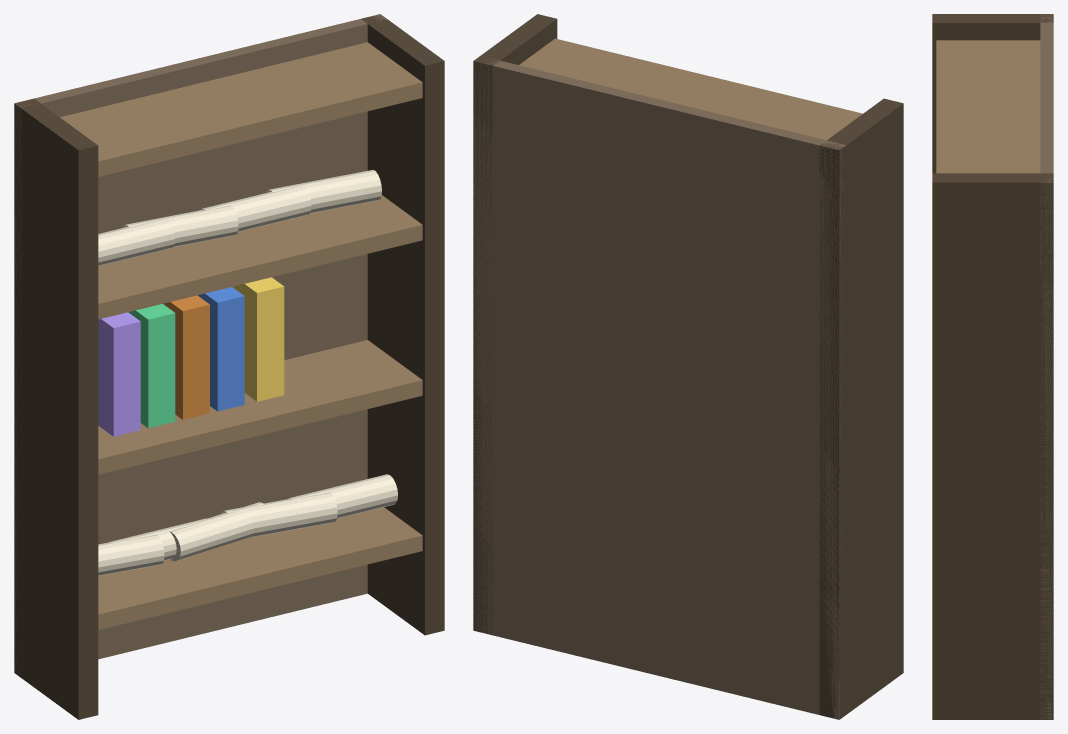
File: archive_shelf.fbx
3 renders of one model, left to right at view 1: azimuth 30°, elevation 25°; view 2: azimuth 150°, elevation 25°; view 3: azimuth 270°, elevation 25°, orthographic. The views are drawn at different scales.
Parts seen in each view (by area): view 1: archive_shelf; view 2: archive_shelf; view 3: archive_shelf.
Boxes of the visible parts, left/top/right/bottom form: archive_shelf: left=14, top=14, right=444, bottom=719; archive_shelf: left=473, top=14, right=903, bottom=719; archive_shelf: left=932, top=14, right=1053, bottom=719.
Bounding box in the file's own units: 1.48 × 2.2 × 0.45.
